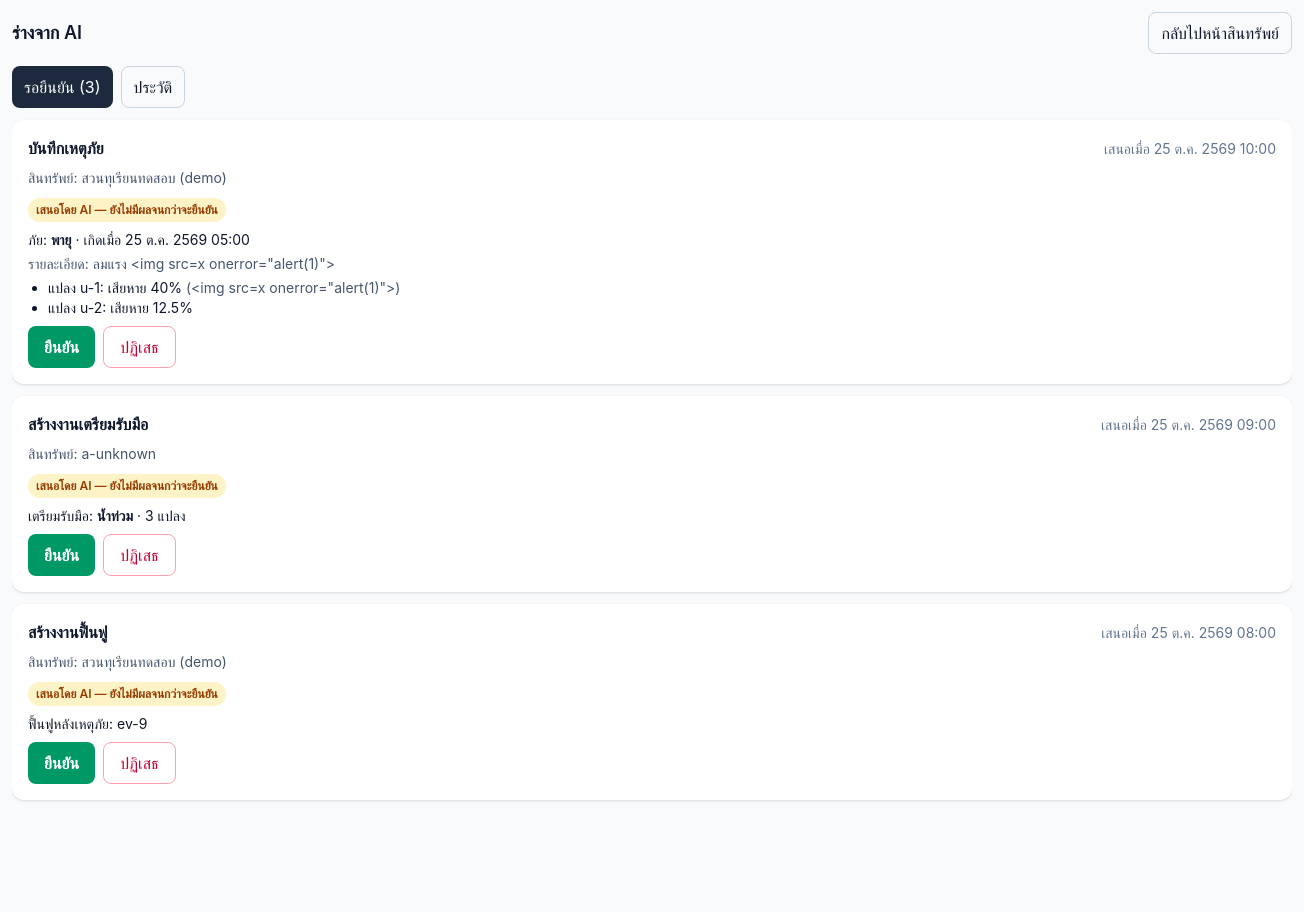
DraftsInbox › reject without a note sends an empty body object
Click the button "ปฏิเสธ" below "สร้างงานฟื้นฟู". click: click(139, 763)
box: [103,742,176,784]
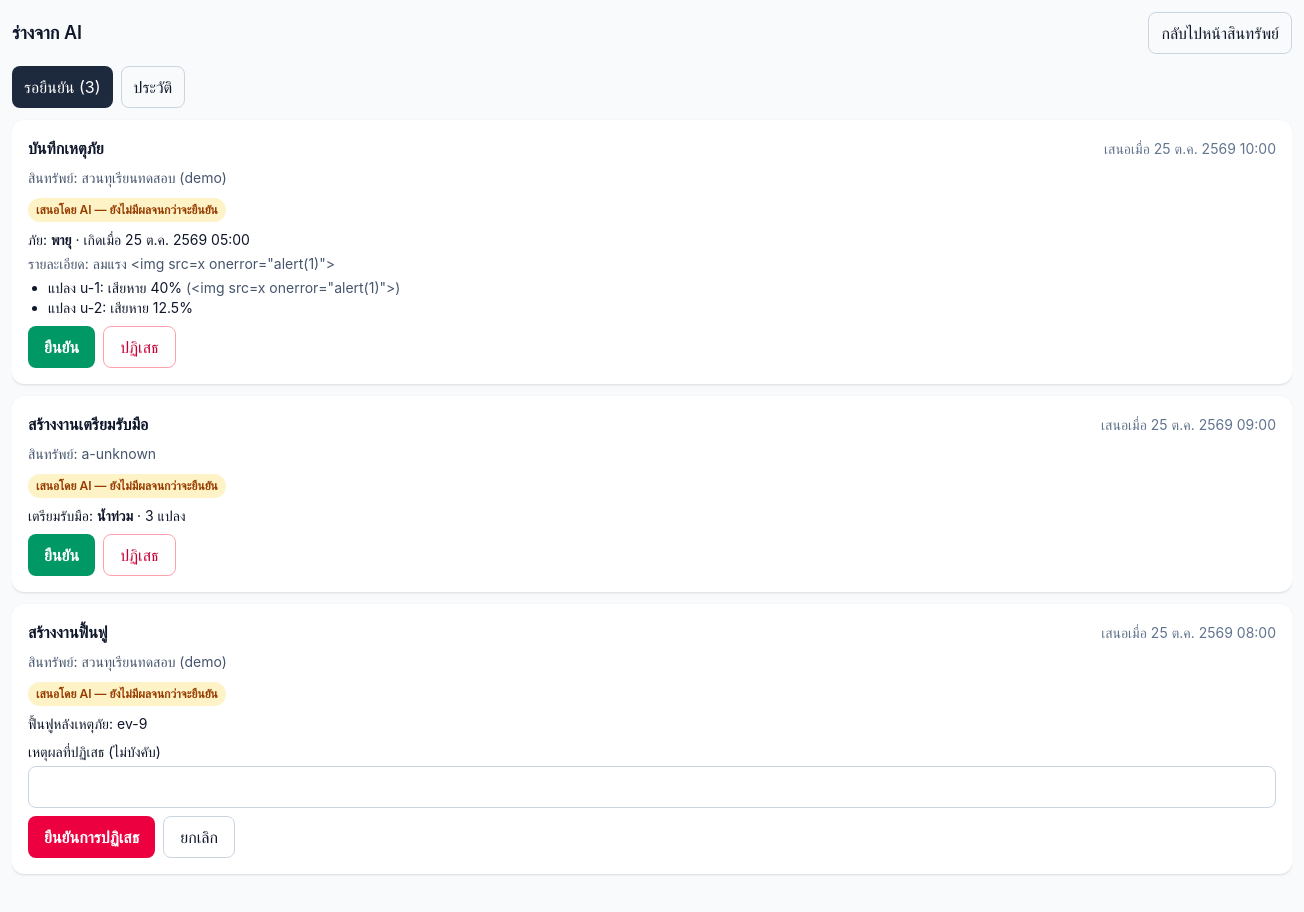
Click the button "ยืนยันการปฏิเสธ". click: click(92, 837)
box: [28,816,155,858]
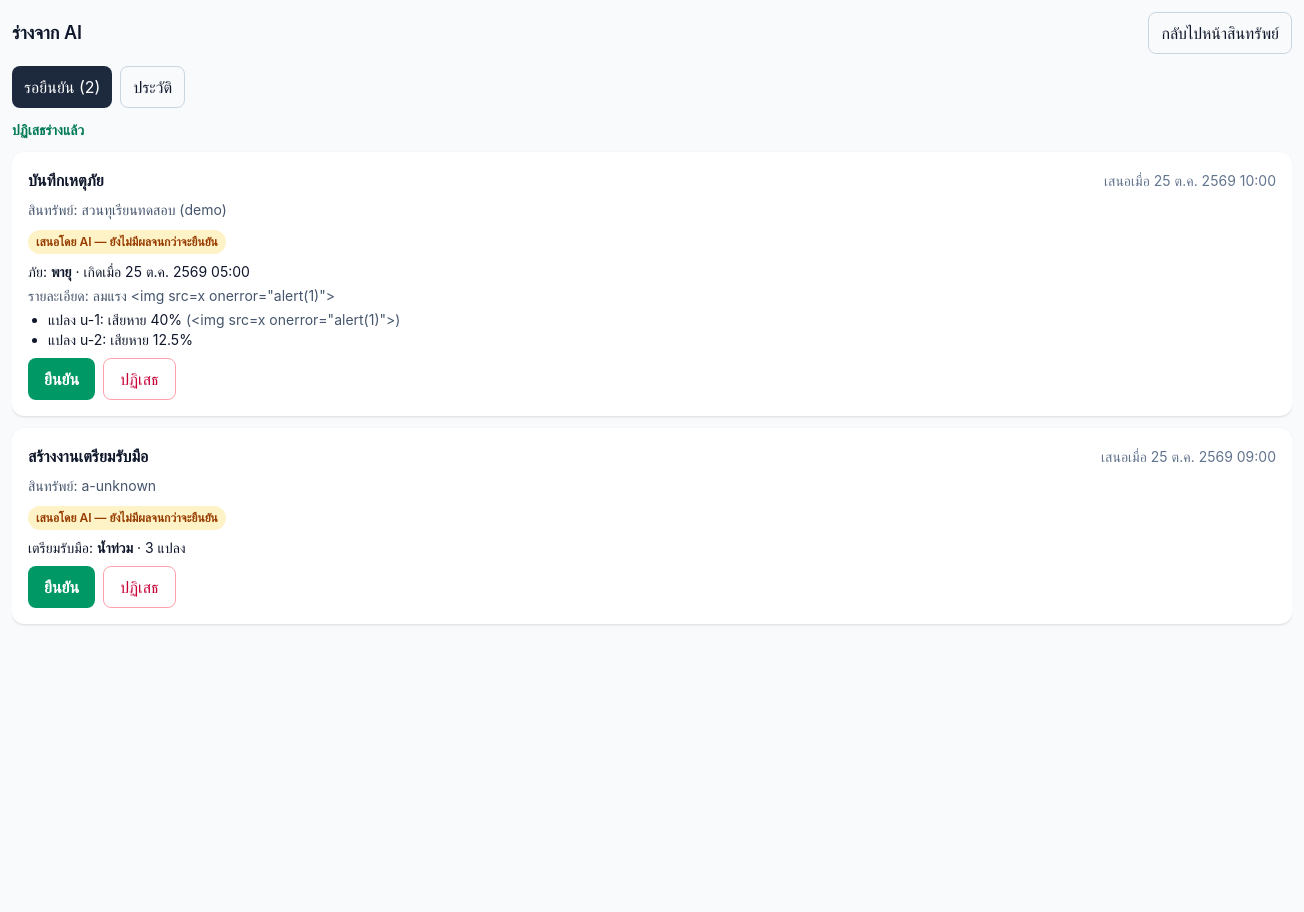
Expected: the text "ปฏิเสธร่างแล้ว" is shown, [12,121,84,138]
